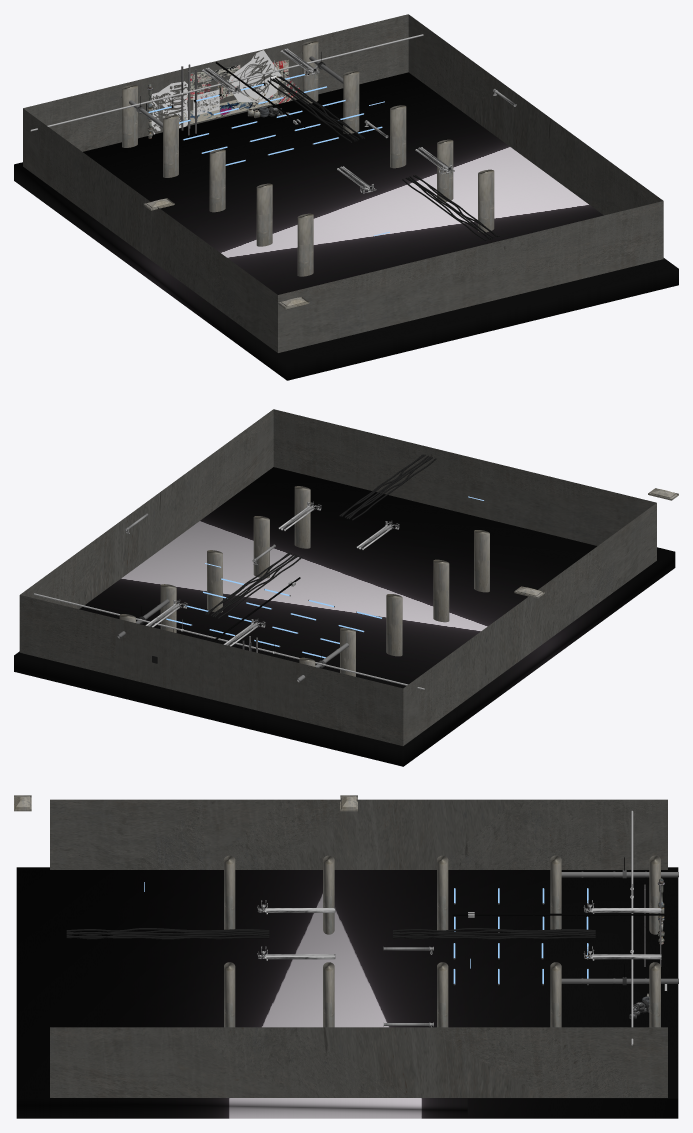
Rendered from underground_garage.gltf.
3 renders of one model, top to bottom at view 1: azimuth 30°, elevation 25°; view 2: azimuth 150°, elevation 25°; view 3: azimuth 270°, elevation 25°, orthographic. The views are drawn at different scales.
Visible parts, largest first — view 1: Plane.016, Cube, scribbles.004, BezierCurve.001, Cylinder.019, Cylinder.018, Cylinder.021, BezierCurve.003, Cylinder.016, Cylinder.022, Cylinder.017, Cylinder.015 (+6 smaller); view 2: Cube, Plane.016, BezierCurve.001, Cylinder.019, BezierCurve.003, Cylinder.016, Cylinder.021, Cylinder.020, Cylinder.022, Cylinder.018, Cylinder.002, Cylinder.015 (+1 smaller); view 3: Plane.016, Cube, BezierCurve.003, BezierCurve.001, Cylinder.016, Cylinder.021, Cylinder.019, Cylinder.015, Cylinder.014, Cylinder.013, Cylinder.020, Cylinder.017 (+8 smaller).
Boxes of the visible parts, x1,y1,x2,y2 form: Plane.016: (14, 72, 678, 380); Cube: (23, 14, 663, 352); scribbles.004: (228, 50, 281, 102); BezierCurve.001: (267, 76, 364, 142); Cylinder.019: (256, 183, 272, 246); Cylinder.018: (390, 105, 406, 168); Cylinder.021: (297, 213, 313, 276); BezierCurve.003: (402, 175, 499, 241); Cylinder.016: (209, 149, 225, 212); Cylinder.022: (478, 169, 494, 232); Cylinder.017: (343, 71, 359, 133); Cylinder.015: (163, 115, 178, 177); Cube: (19, 409, 656, 745); Plane.016: (14, 467, 675, 766); BezierCurve.001: (205, 552, 302, 618); Cylinder.019: (433, 559, 449, 622); BezierCurve.003: (339, 454, 436, 520); Cylinder.016: (386, 594, 402, 656); Cylinder.021: (474, 530, 489, 592); Cylinder.020: (253, 516, 269, 578); Cylinder.022: (294, 486, 310, 548); Cylinder.018: (207, 550, 222, 612); Cylinder.002: (34, 593, 424, 689); Cylinder.015: (340, 628, 355, 676); Plane.016: (16, 867, 678, 1118); Cube: (50, 799, 667, 1097); BezierCurve.003: (66, 928, 269, 939); BezierCurve.001: (393, 928, 595, 939); Cylinder.016: (437, 855, 448, 930); Cylinder.021: (224, 855, 235, 929); Cylinder.019: (323, 855, 334, 934); Cylinder.015: (550, 855, 561, 929); Cylinder.014: (649, 855, 660, 934); Cylinder.013: (649, 962, 660, 1027); Cylinder.020: (323, 962, 334, 1027); Cylinder.017: (550, 962, 561, 1027).
Bounding box in the file's own units: 48.77 × 9.33 × 57.83.
